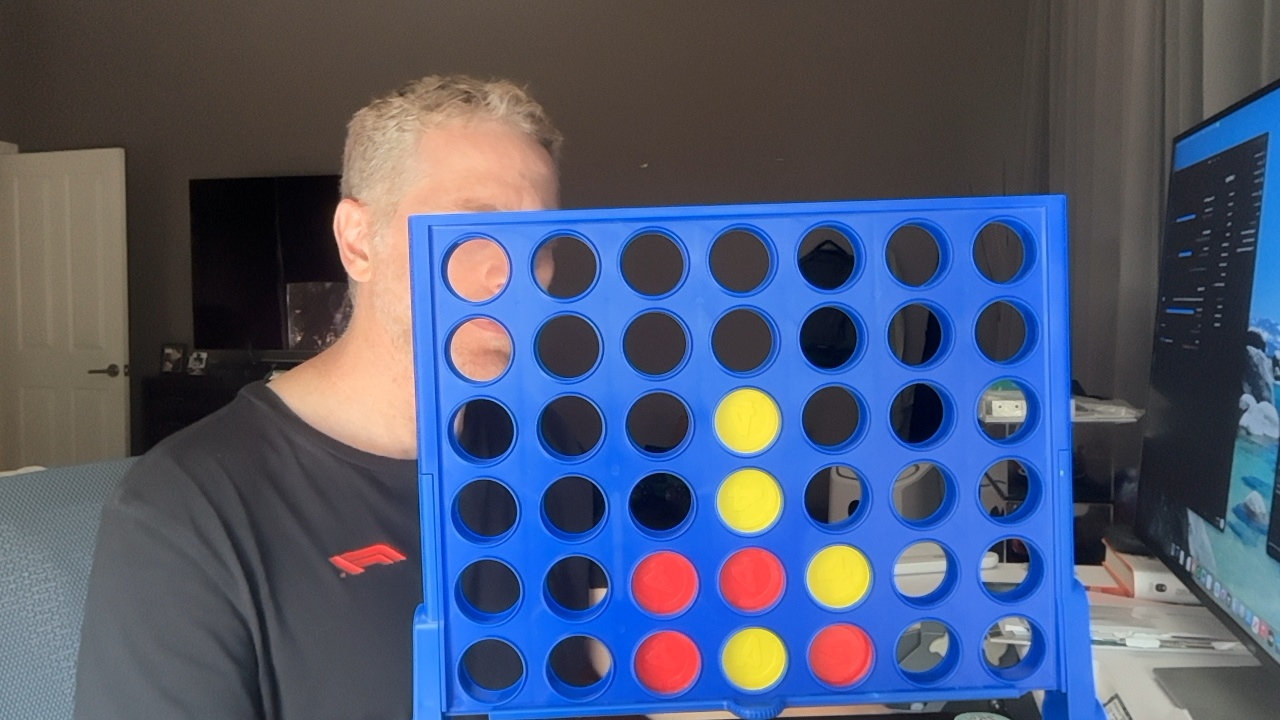red piece: (632, 551, 697, 615), (634, 631, 700, 694), (719, 548, 784, 611), (808, 624, 873, 686)
yellow piece: (715, 388, 780, 454), (717, 468, 781, 533), (806, 545, 870, 609), (721, 627, 786, 690)
